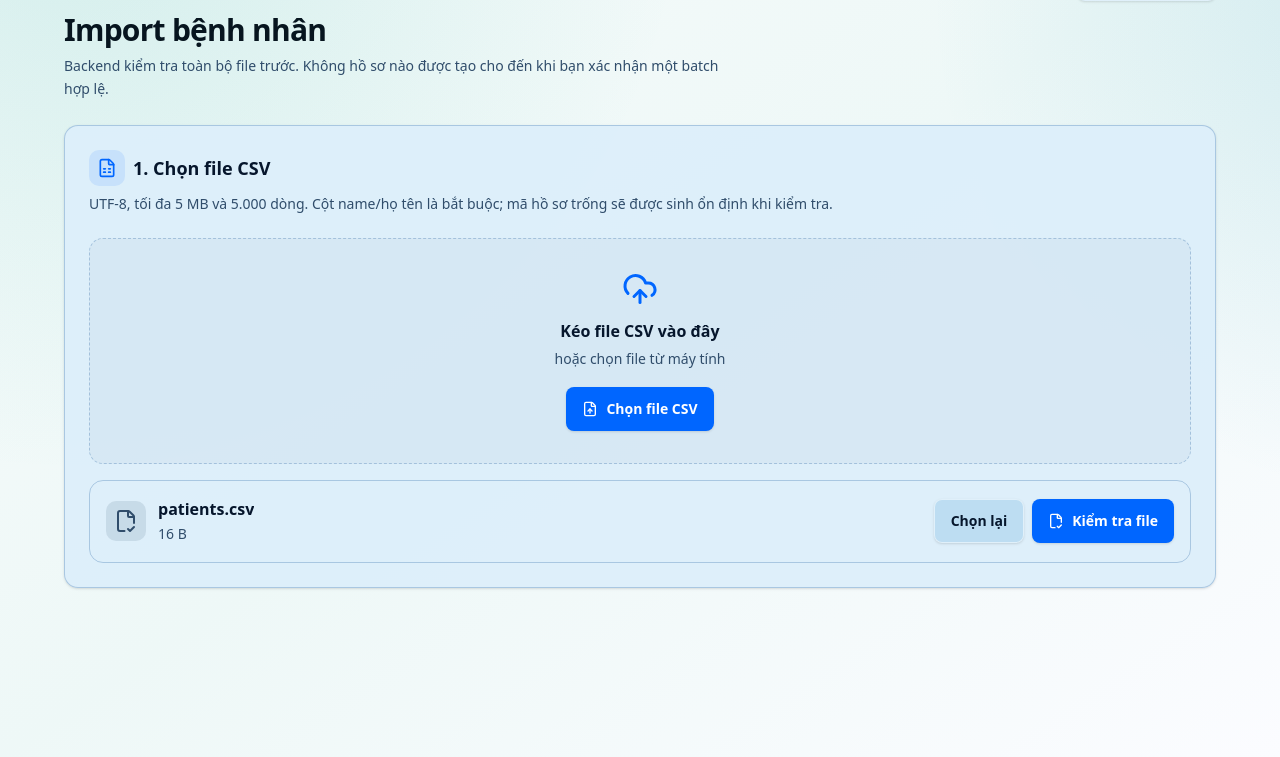
Test: patient portal pages › does not overlap import refresh with validate or commit
The width and height of the screenshot is (1280, 757).
Earlier steps of the test are not shown.
Later steps or results of the test are not shown.
Click the button "Kiểm tra file": (1103, 521) x1=1032 y1=499 x2=1174 y2=543
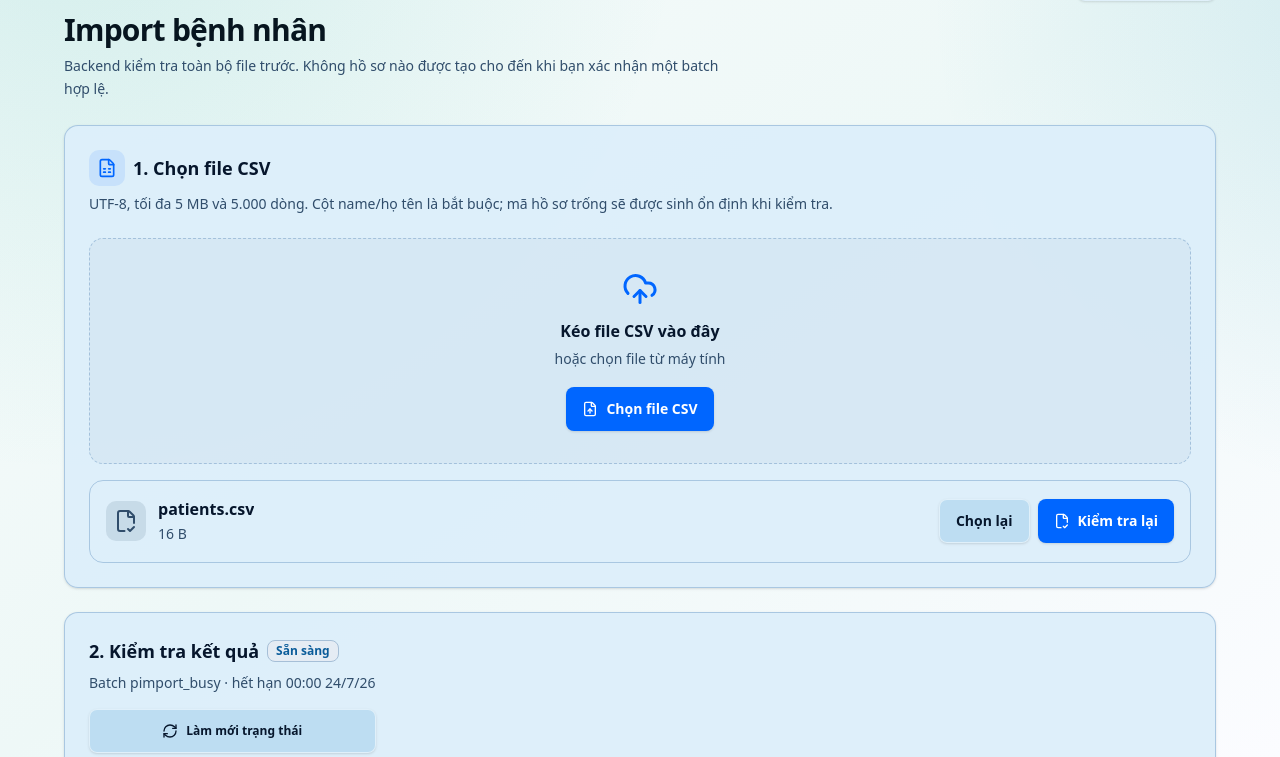
Click the button "Làm mới trạng thái": (232, 731) x1=89 y1=709 x2=376 y2=753
(page scrolled)
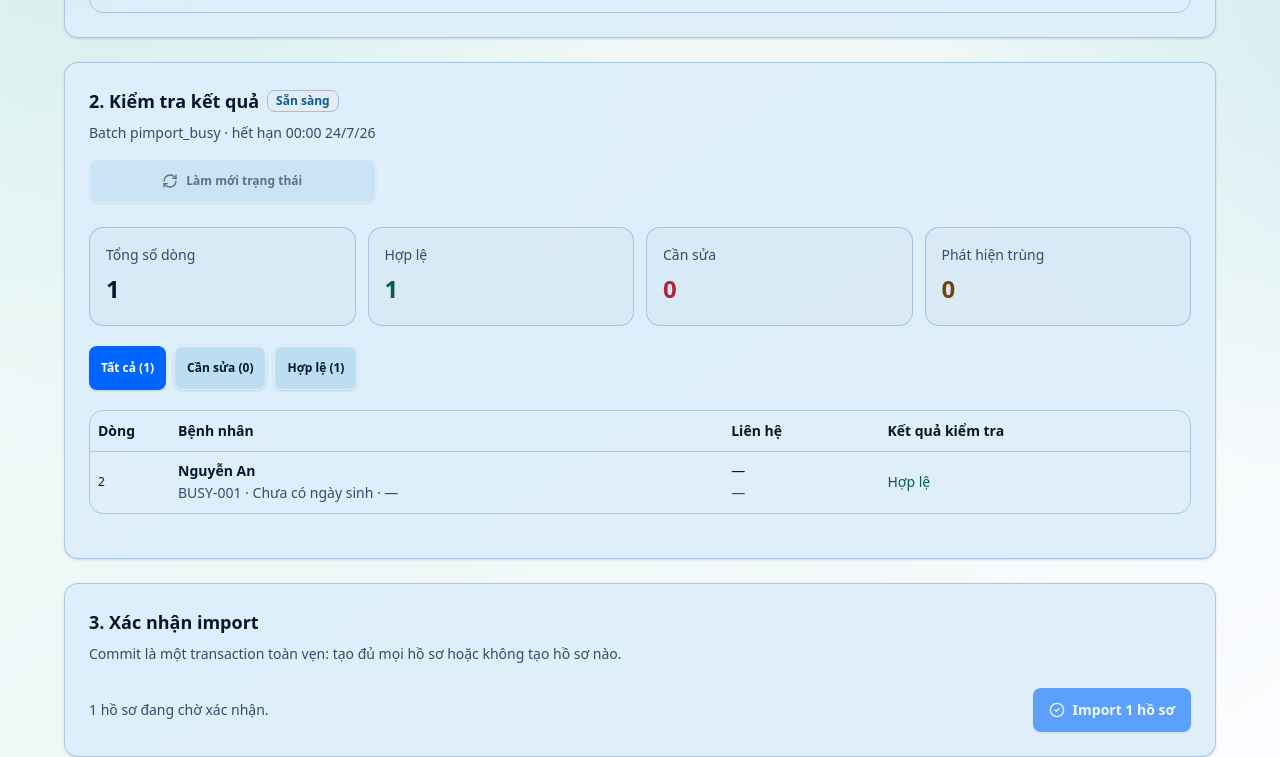
Check: the button "Import 1 hồ sơ" is disabled, box x1=1033 y1=688 x2=1191 y2=732
